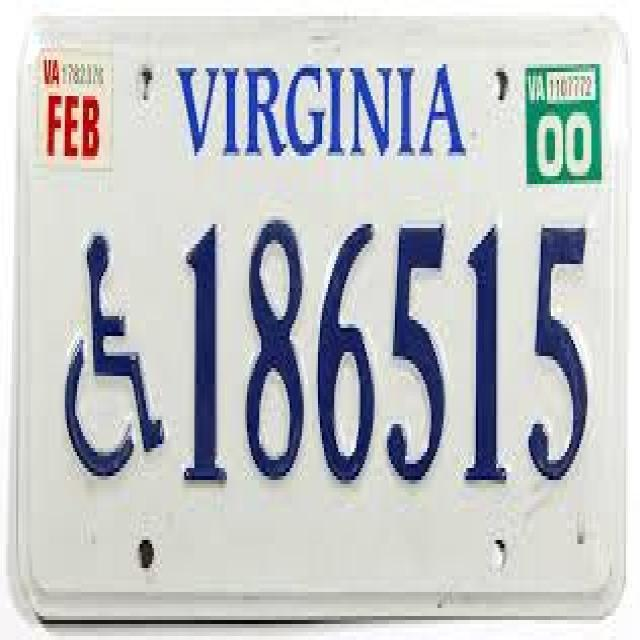symbol_of_access: (62, 232, 166, 478)
